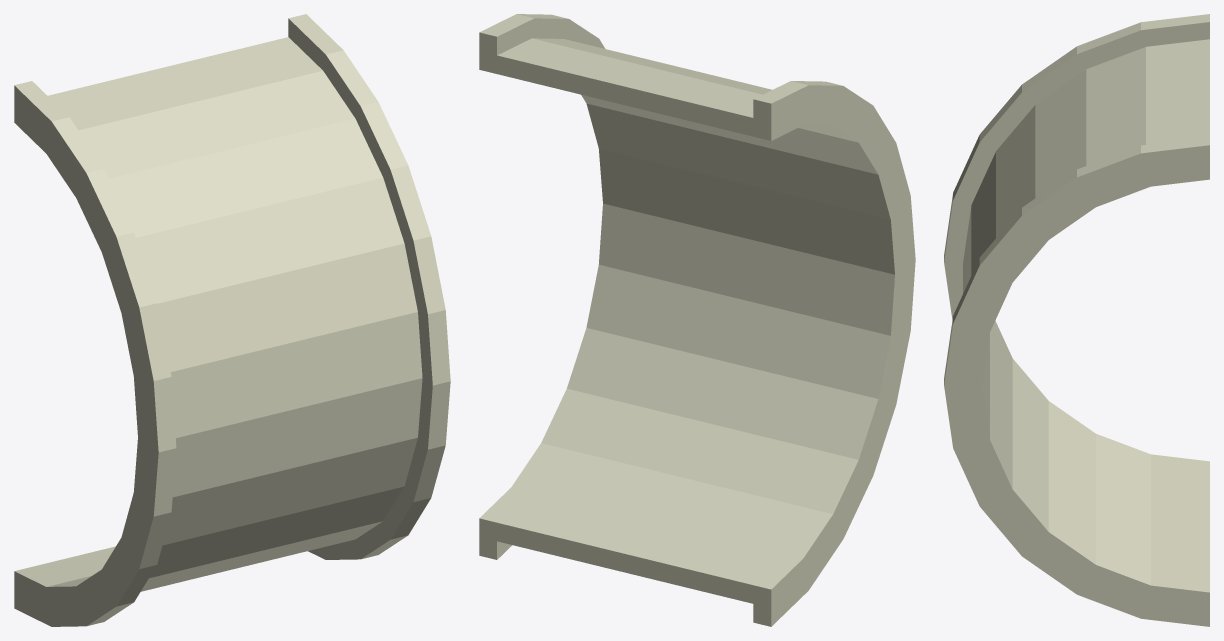
Rendered from section_034.obj.
3 views of the same model, side by side, from view 1: azimuth 30°, elevation 25°; view 2: azimuth 150°, elevation 25°; view 3: azimuth 270°, elevation 25° (orthographic). The views are drawn at different scales.
Size of the model in its own units: 16.35 by 28 by 14.
